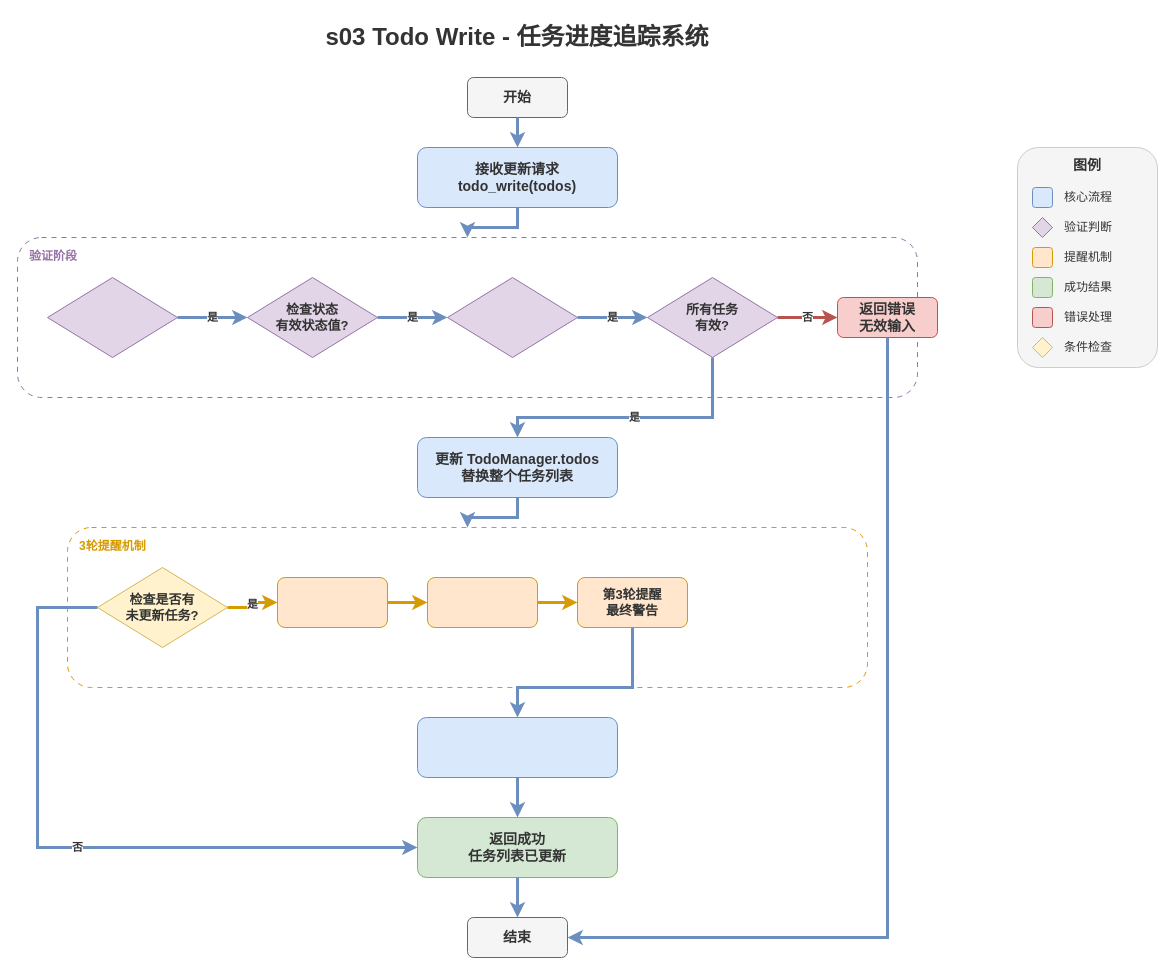
Image size: 1175x975. Some labels were removed from this diagram. The box of each missing label's shape, as (x1, y1, x2, y2) in pixels:
检查内容 content 非空?: (446, 276, 578, 358)
检查格式 todos 是列表?: (46, 276, 178, 358)
注入提醒消息 到 messages: (416, 716, 618, 778)
第1轮提醒 注入提示: (276, 576, 388, 628)
第2轮提醒 加强提示: (426, 576, 538, 628)
